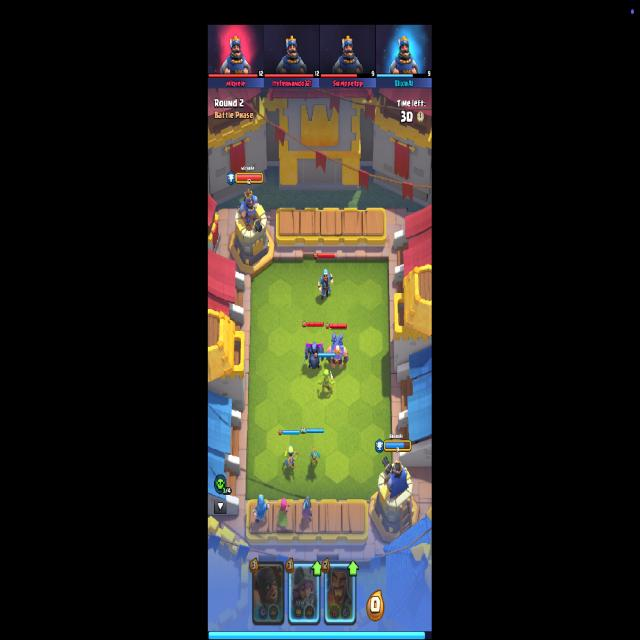archer: (276, 498, 290, 526)
dart_goblin: (310, 444, 321, 469)
electro_giant: (326, 333, 349, 371)
goblin: (318, 369, 336, 394)
musketeer: (302, 496, 314, 526)
pekka: (302, 341, 324, 370)
spear_goblin: (284, 445, 299, 472)
wizard: (252, 494, 269, 528), (317, 269, 333, 300)
